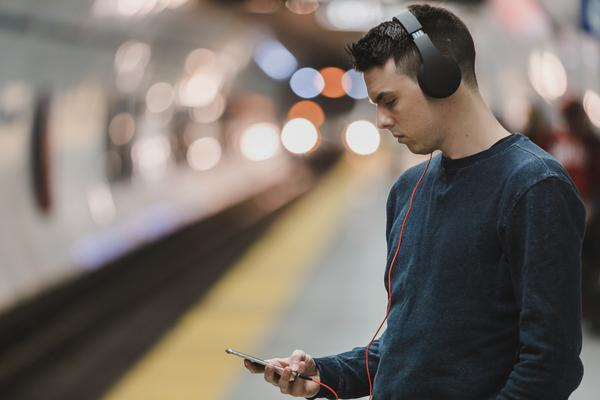headphone: (356, 1, 487, 135)
